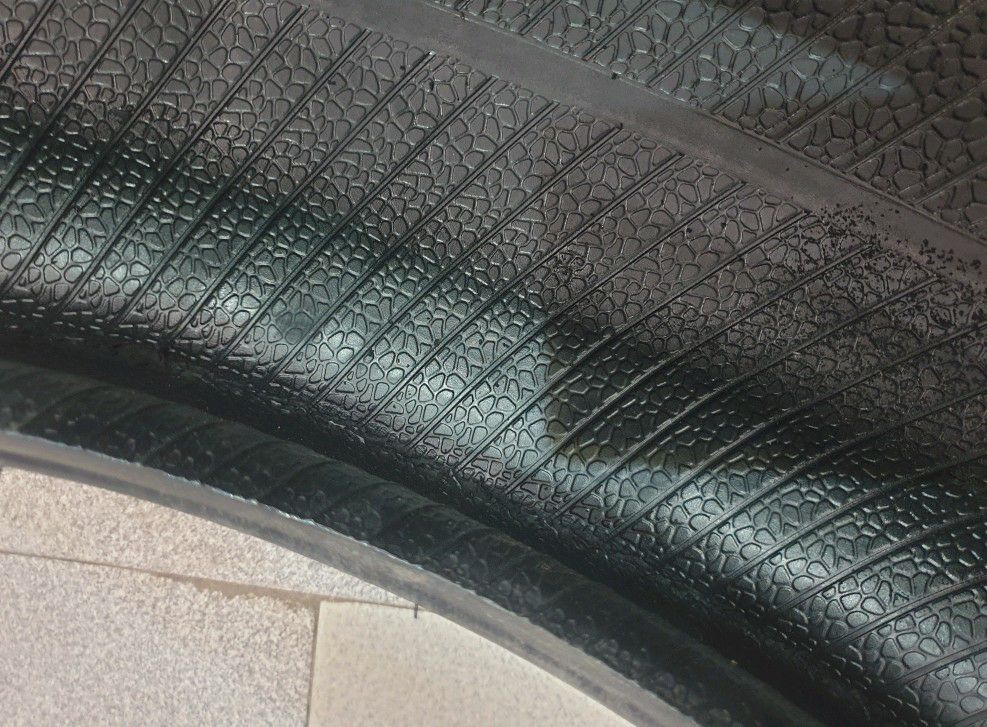CBU: (275, 309, 315, 342)
